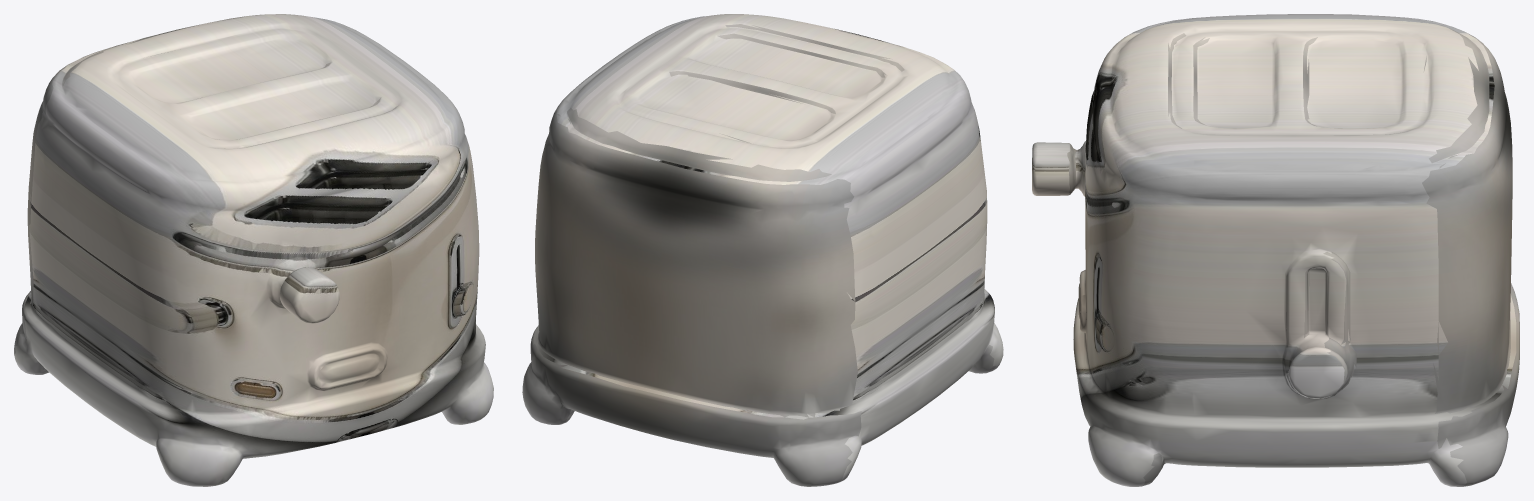
File: toaster.glb
3 views of the same model, side by side, from view 1: azimuth 30°, elevation 25°; view 2: azimuth 150°, elevation 25°; view 3: azimuth 270°, elevation 25° (orthographic). The views are drawn at different scales.
Parts seen in each view (by area): view 1: toaster; view 2: toaster; view 3: toaster.
Boxes of the visible parts, x1,y1,x2,y2 form: toaster: (14,14,493,486); toaster: (522,14,1003,486); toaster: (1032,14,1519,486).
Bounding box in the file's own units: 7.62 × 5.94 × 8.
Materials: 1 (1 with a texture image).
